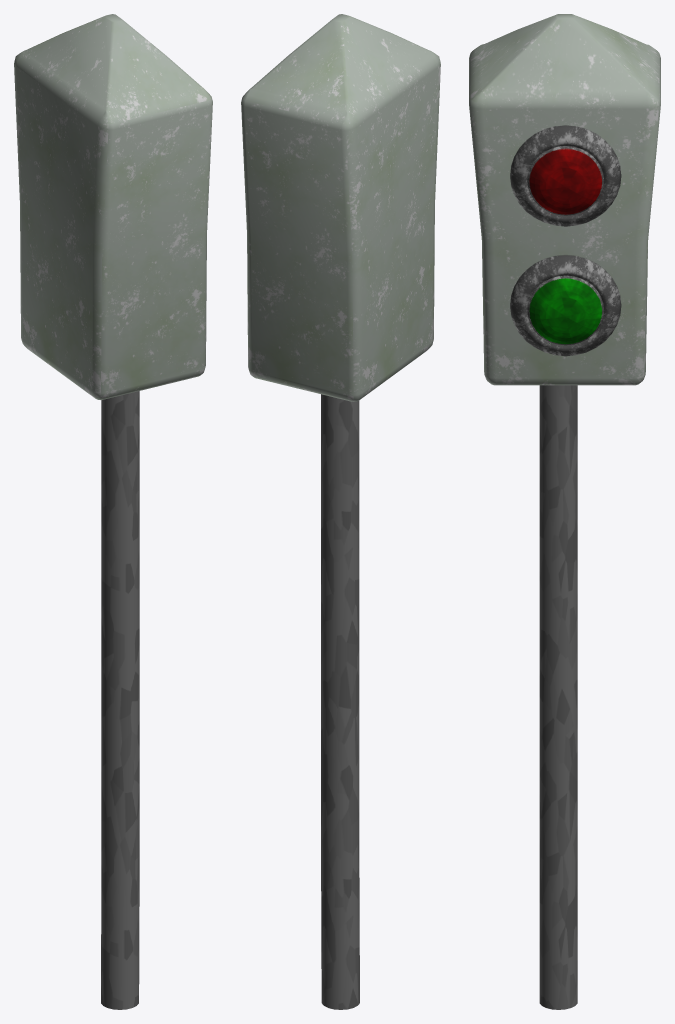
File: Semaforo.obj
3 views of the same model, side by side, from view 1: azimuth 30°, elevation 25°; view 2: azimuth 150°, elevation 25°; view 3: azimuth 270°, elevation 25° (orthographic).
Parts seen in each view (by area): view 1: up001; view 2: up001; view 3: up001.
Part boxes in pixels (bbox=[...]): up001: bbox=[14, 14, 212, 1009]; up001: bbox=[241, 14, 440, 1009]; up001: bbox=[469, 14, 660, 1009].
Size of the model in its own units: 95.52 by 664 by 117.
Materials: 1 (1 with a texture image).
